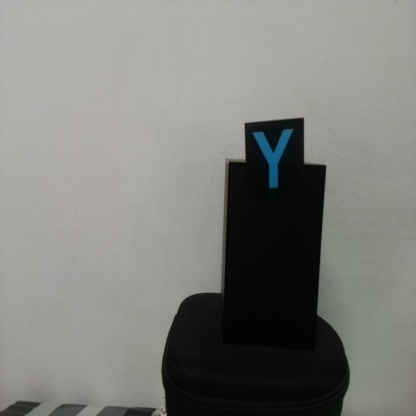id_14: (245, 121, 304, 198)
